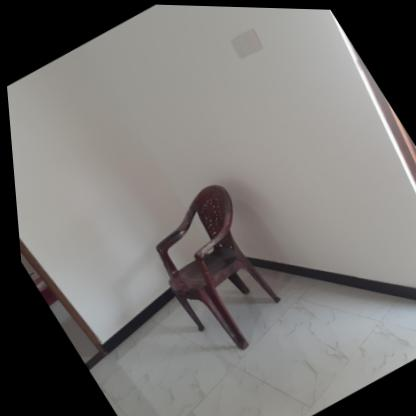Chair: (123, 174, 303, 365)
